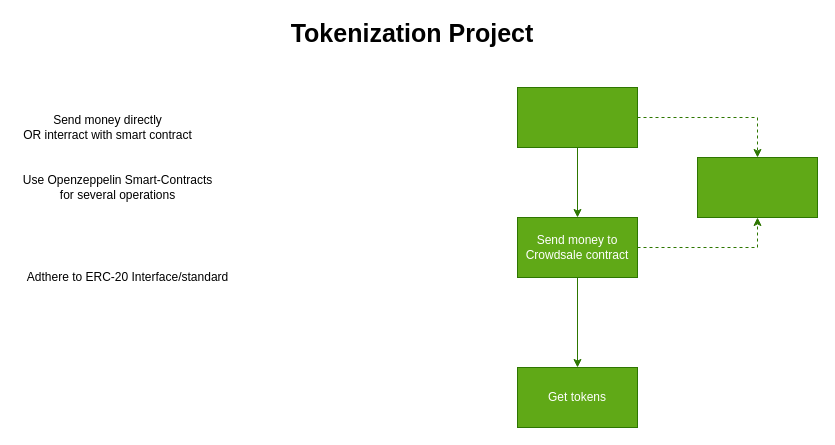
The diagram is 835 pixels wide and 445 high, and some of its shapes have lost their labels. The box of each missing label's shape, as (x1, y1, x2, y2) in pixels:
Buy tokens: (516, 86, 638, 148)
KYC/Allowance check: (696, 156, 818, 218)
